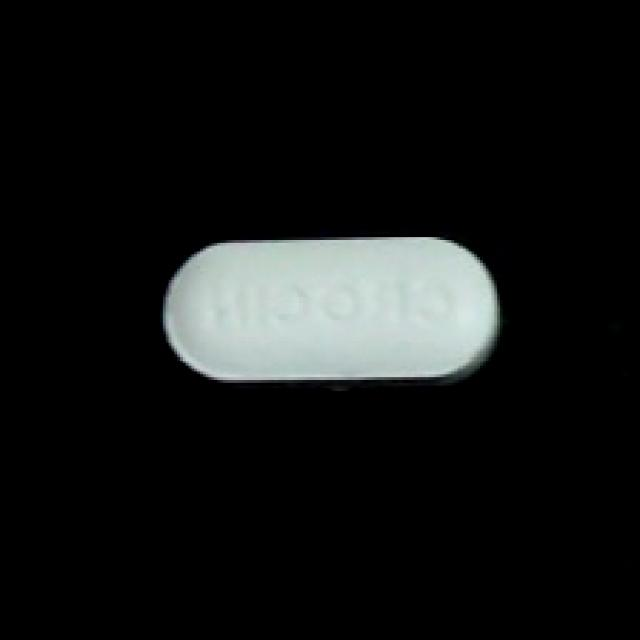no-defect: (154, 229, 509, 391)
